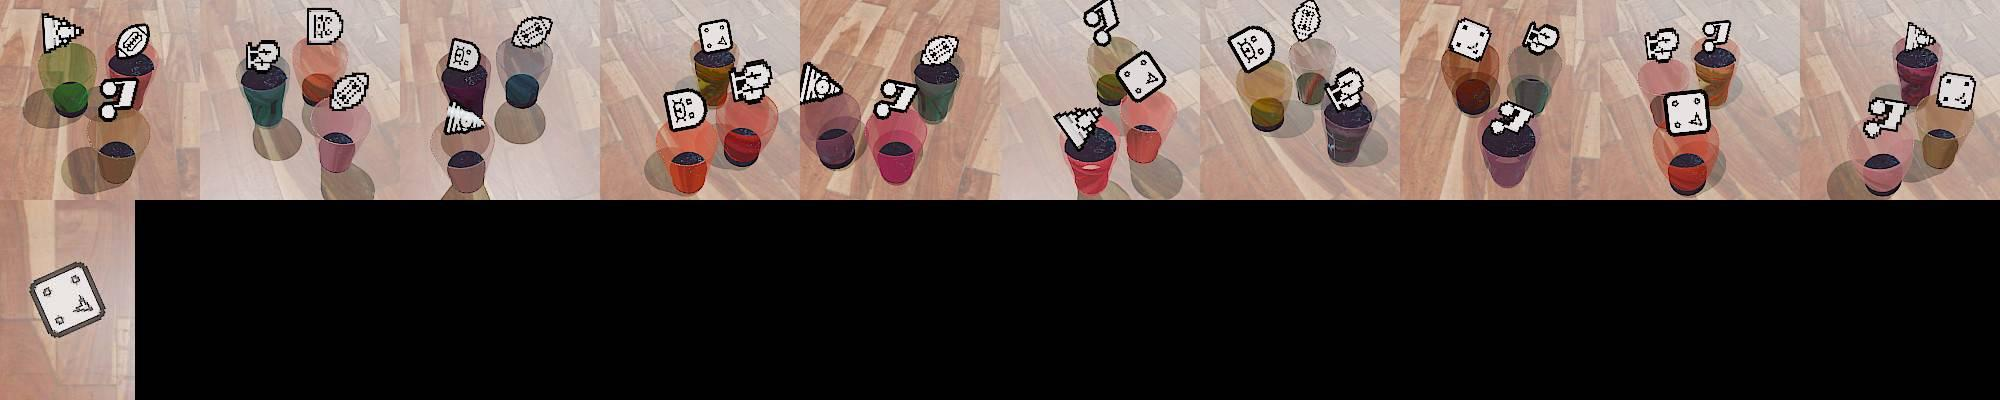icon: (28, 260, 107, 340), (1116, 50, 1167, 103), (1052, 103, 1105, 150), (1227, 24, 1274, 73), (1663, 89, 1712, 136), (662, 88, 709, 134), (730, 57, 774, 103), (798, 61, 844, 104), (1864, 96, 1908, 139), (1324, 66, 1367, 111), (1449, 18, 1492, 62), (41, 13, 84, 56), (97, 76, 139, 120), (874, 76, 920, 116), (329, 70, 371, 112), (1083, 0, 1120, 46), (1489, 102, 1534, 138), (1936, 71, 1977, 111), (306, 8, 343, 47), (511, 14, 554, 48), (443, 102, 486, 135), (114, 23, 152, 60), (1291, 0, 1323, 43), (1523, 19, 1561, 55), (920, 33, 959, 68), (698, 18, 733, 55), (1644, 27, 1680, 64), (446, 37, 482, 73), (245, 38, 281, 73), (1903, 22, 1934, 54), (1702, 20, 1732, 51)
